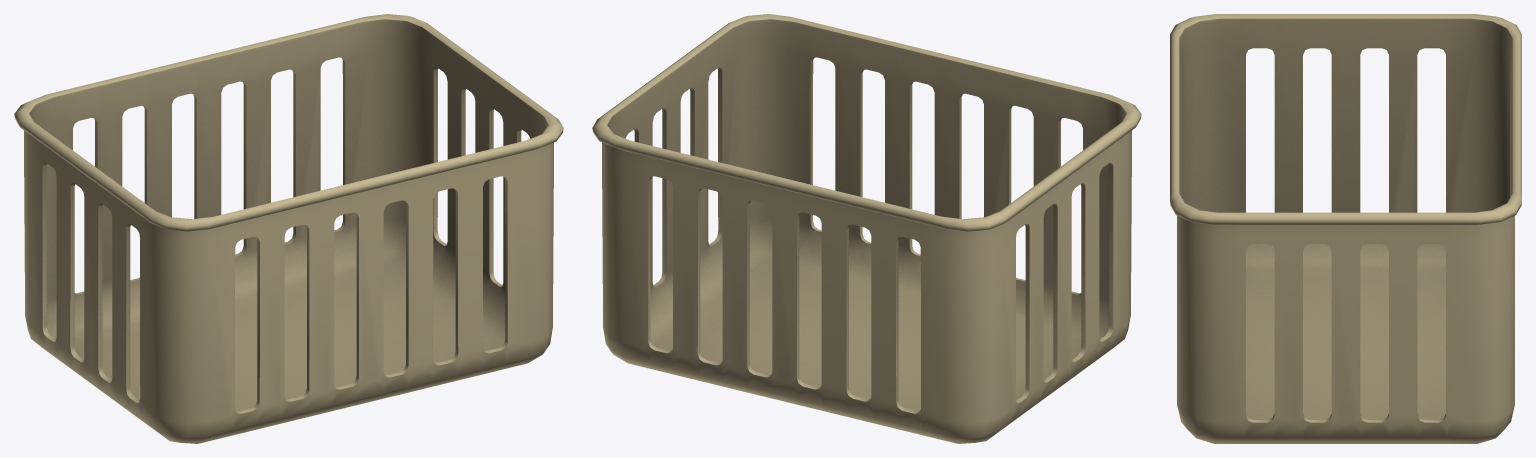
Rendered from 80s_basket_02.fbx.
3 views of the same model, side by side, from view 1: azimuth 30°, elevation 25°; view 2: azimuth 150°, elevation 25°; view 3: azimuth 270°, elevation 25° (orthographic). The views are drawn at different scales.
Parts seen in each view (by area): view 1: 80s_basket_02; view 2: 80s_basket_02; view 3: 80s_basket_02.
Part boxes in pixels (x1,y1,x2,y2): 80s_basket_02: (14,14,563,443); 80s_basket_02: (592,14,1141,443); 80s_basket_02: (1170,14,1521,443).
Bounding box in the file's own units: 137 × 76 × 99.66.
